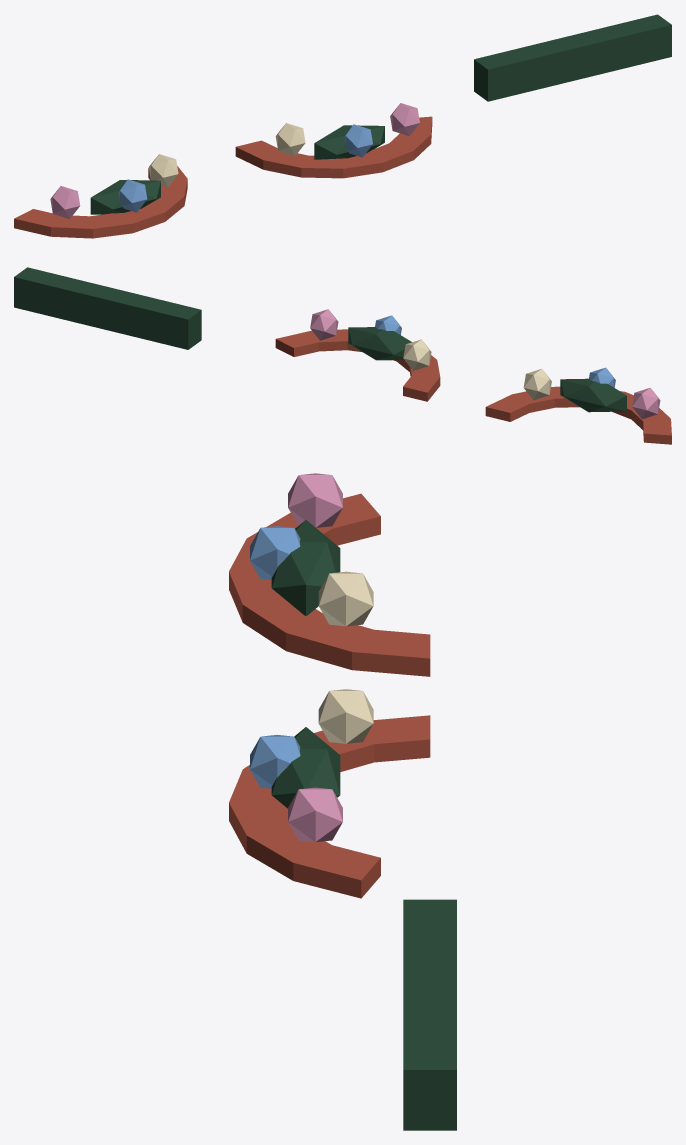
The model's file is lombard-kit.glb.
3 renders of one model, top to bottom at view 1: azimuth 30°, elevation 25°; view 2: azimuth 150°, elevation 25°; view 3: azimuth 270°, elevation 25°, orthographic. The views are drawn at different scales.
Parts seen in each view (by area): view 1: lombard_hedge_body, lombard_bed_curve_r_body, lombard_bed_curve_l_body; view 2: lombard_hedge_body, lombard_bed_curve_l_body, lombard_bed_curve_r_body; view 3: lombard_bed_curve_l_body, lombard_bed_curve_r_body, lombard_hedge_body.
Boxes of the visible parts, <box> form: lombard_hedge_body: <box>474,14,671,101</box>; lombard_bed_curve_r_body: <box>235,103,432,178</box>; lombard_bed_curve_l_body: <box>14,154,187,238</box>; lombard_hedge_body: <box>14,267,201,349</box>; lombard_bed_curve_l_body: <box>485,367,671,444</box>; lombard_bed_curve_r_body: <box>275,309,440,401</box>; lombard_bed_curve_l_body: <box>229,473,430,676</box>; lombard_bed_curve_r_body: <box>229,689,430,898</box>; lombard_hedge_body: <box>403,899,456,1130</box>.
Size of the model in its own units: 21.82 by 1.2 by 3.4.
